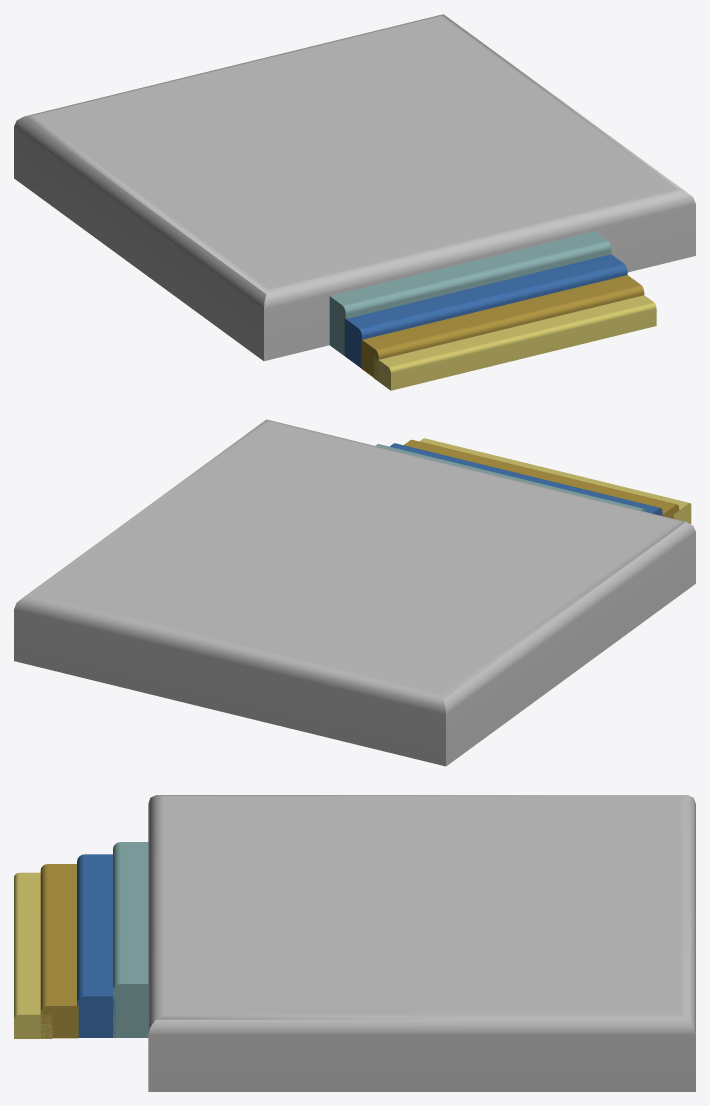
File: SM_house_3-1.fbx
3 renders of one model, top to bottom at view 1: azimuth 30°, elevation 25°; view 2: azimuth 150°, elevation 25°; view 3: azimuth 270°, elevation 25°, orthographic. The views are drawn at different scales.
Visible parts, largest first — view 1: polySurface372; view 2: polySurface372; view 3: polySurface372.
Part boxes in pixels (left/top/right/bottom): polySurface372: left=14, top=14, right=695, bottom=390; polySurface372: left=14, top=419, right=695, bottom=766; polySurface372: left=14, top=795, right=695, bottom=1091.
Bounding box in the file's own units: 351 × 50.71 × 437.
